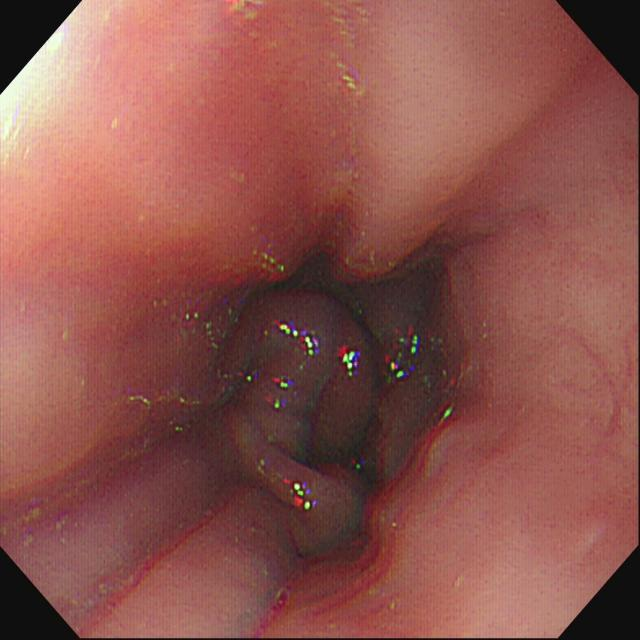U: (384, 326, 420, 380), (279, 321, 319, 360), (285, 479, 319, 514), (338, 346, 361, 379)
